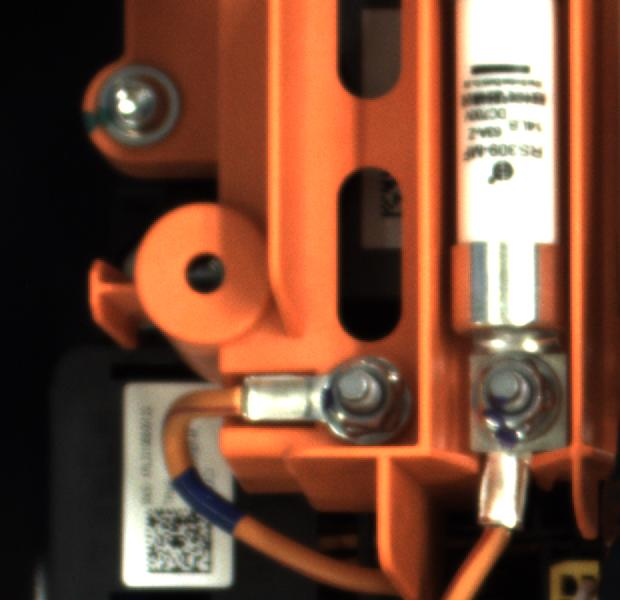screw_m: (72, 58, 194, 150)
screw_s: (306, 349, 414, 447), (466, 353, 561, 451)
